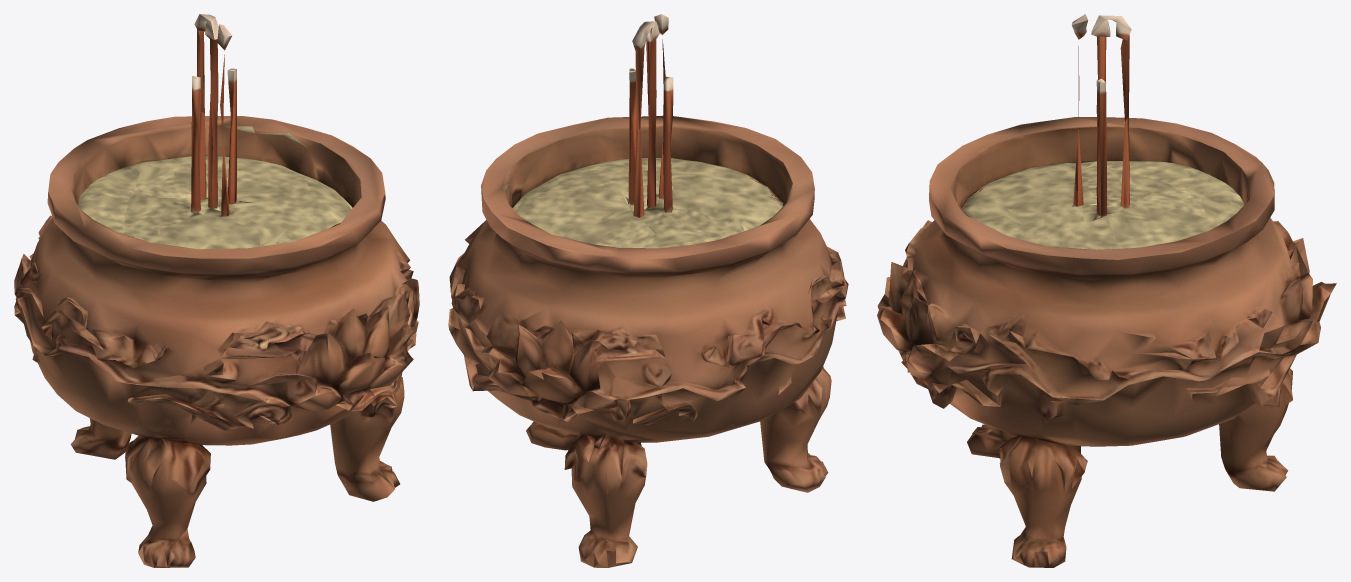
File: incense_burner_tripod_incense.fbx
3 renders of one model, left to right at view 1: azimuth 30°, elevation 25°; view 2: azimuth 150°, elevation 25°; view 3: azimuth 270°, elevation 25°, orthographic.
Parts seen in each view (by area): view 1: incense_burner_tripod_incense; view 2: incense_burner_tripod_incense; view 3: incense_burner_tripod_incense.
Boxes of the visible parts, <box> form: incense_burner_tripod_incense: <box>14,14,419,567</box>; incense_burner_tripod_incense: <box>448,14,848,567</box>; incense_burner_tripod_incense: <box>877,14,1336,567</box>.
Bounding box in the file's own units: 20.18 × 26.74 × 23.
